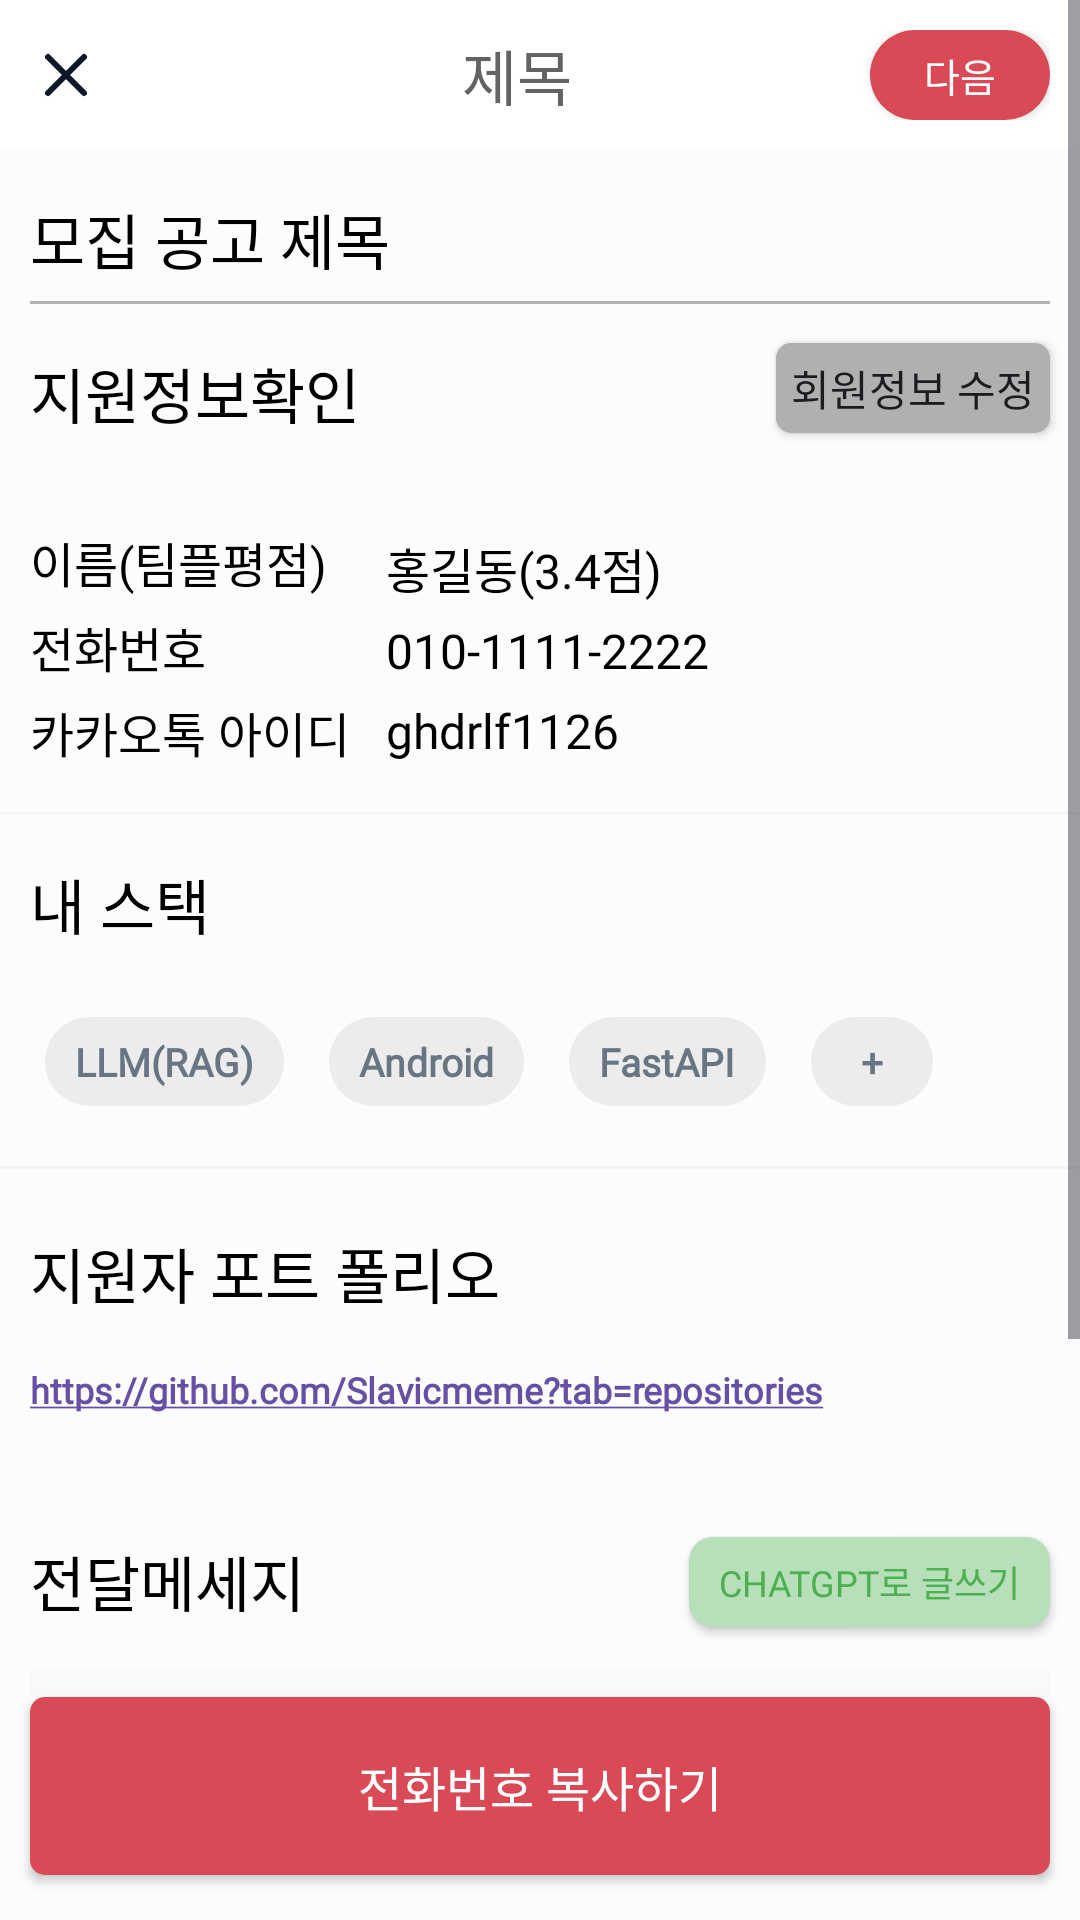

Icon click points for this 1080w x 1920h phone screenshot, format point (x, y):
delete: point (66, 74)
